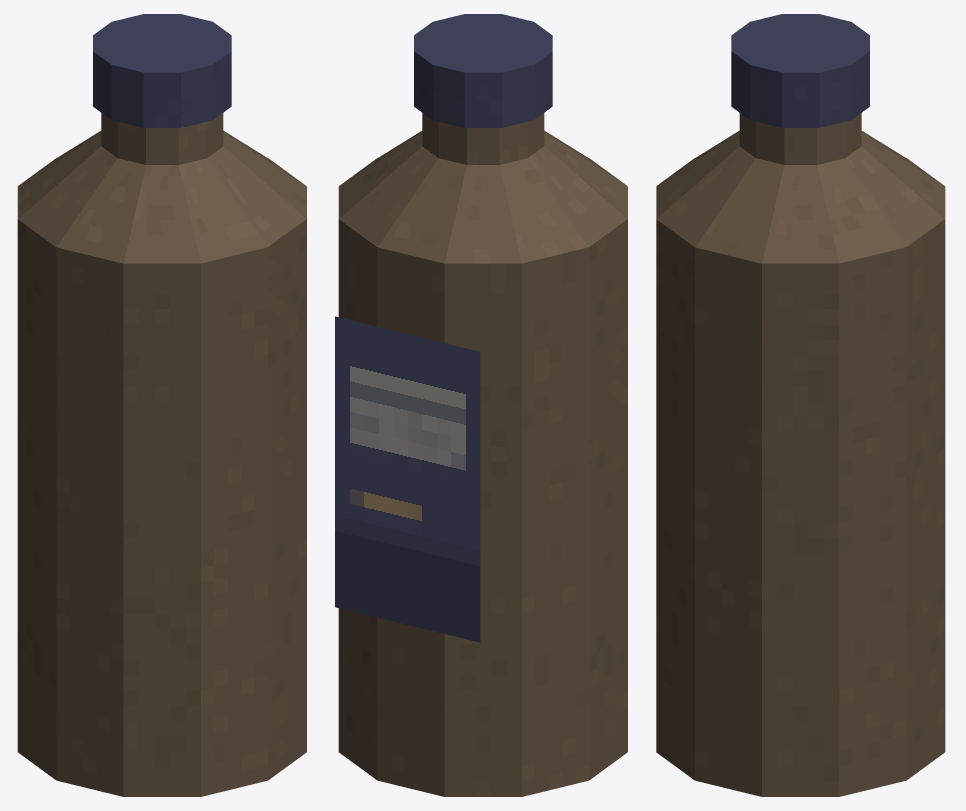
The model's file is nyquil.glb.
The picture shows the model from 3 angles, left to right: view 1: azimuth 30°, elevation 25°; view 2: azimuth 150°, elevation 25°; view 3: azimuth 270°, elevation 25°; orthographic projection.
Parts seen in each view (by area): view 1: block_bottle body, block_shoulder, block_ribbed closure, block_neck; view 2: block_bottle body, block_label, block_shoulder, block_ribbed closure, block_neck; view 3: block_bottle body, block_shoulder, block_ribbed closure, block_neck.
Part boxes in pixels (left/top/right/bottom): block_bottle body: left=17, top=158, right=306, bottom=796; block_shoulder: left=18, top=130, right=306, bottom=263; block_ribbed closure: left=93, top=14, right=231, bottom=127; block_neck: left=101, top=113, right=223, bottom=164; block_bottle body: left=338, top=158, right=627, bottom=796; block_label: left=335, top=316, right=480, bottom=642; block_shoulder: left=339, top=130, right=627, bottom=263; block_ribbed closure: left=414, top=14, right=552, bottom=127; block_neck: left=422, top=113, right=544, bottom=164; block_bottle body: left=656, top=158, right=945, bottom=796; block_shoulder: left=656, top=130, right=944, bottom=263; block_ribbed closure: left=731, top=14, right=869, bottom=127; block_neck: left=739, top=113, right=861, bottom=164.
Bounding box in the file's own units: 0.0541 × 0.143 × 0.0553.
Materials: 1 (1 with a texture image).
